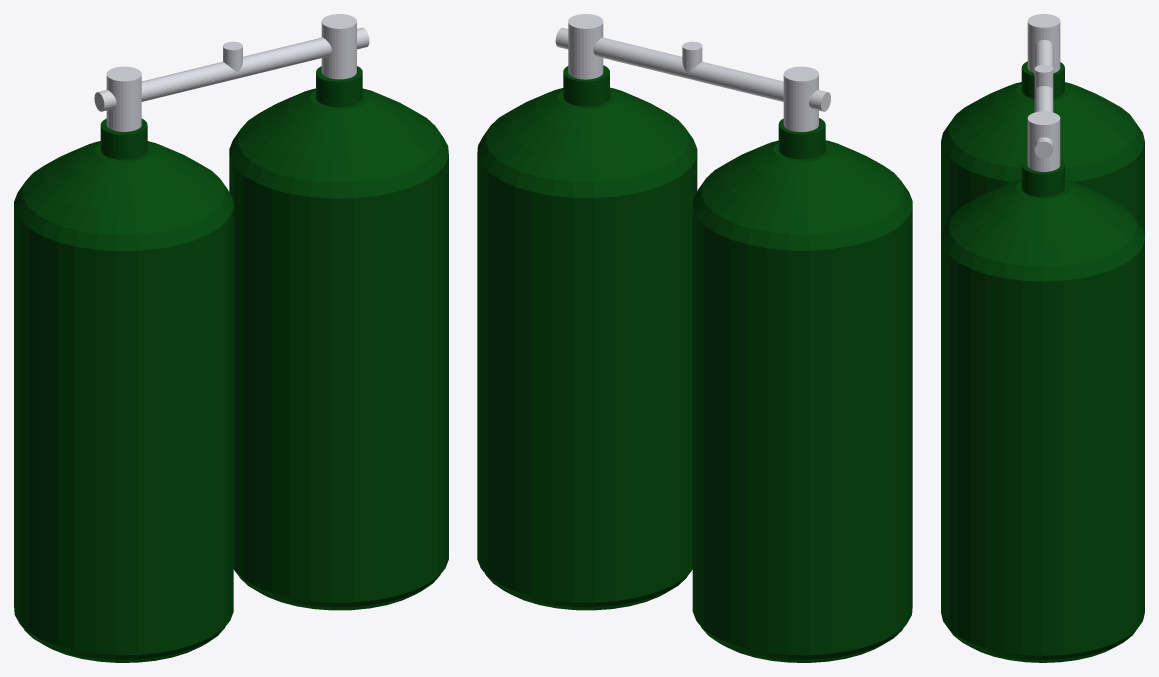
Rendered from Oxygen Tank.fbx.
3 renders of one model, left to right at view 1: azimuth 30°, elevation 25°; view 2: azimuth 150°, elevation 25°; view 3: azimuth 270°, elevation 25°, orthographic. The views are drawn at different scales.
Parts seen in each view (by area): view 1: Cylinder, Cylinder.007, Cylinder.002, Cylinder.001, Cylinder.006; view 2: Cylinder, Cylinder.007, Cylinder.002, Cylinder.001, Cylinder.006; view 3: Cylinder.007, Cylinder, Cylinder.006, Cylinder.001, Cylinder.002, Cylinder.004, Cylinder.005.
Boxes of the visible parts, x1,y1,x2,y2 form: Cylinder: (14, 118, 233, 662); Cylinder.007: (229, 66, 448, 610); Cylinder.002: (141, 37, 331, 101); Cylinder.001: (106, 66, 141, 131); Cylinder.006: (321, 14, 356, 79); Cylinder: (692, 118, 912, 662); Cylinder.007: (477, 65, 697, 610); Cylinder.002: (593, 37, 783, 101); Cylinder.001: (783, 66, 818, 131); Cylinder.006: (568, 14, 603, 79); Cylinder.007: (941, 159, 1144, 662); Cylinder: (941, 61, 1144, 237); Cylinder.006: (1027, 111, 1060, 171); Cylinder.001: (1027, 14, 1060, 73); Cylinder.002: (1034, 40, 1053, 112); Cylinder.004: (1034, 64, 1053, 89); Cylinder.005: (1034, 137, 1053, 158).
Bounding box in the file's own units: 213 × 280 × 100.
